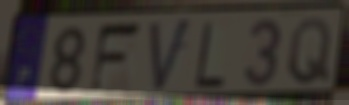3: (241, 16, 283, 91)
8: (46, 23, 90, 97)
F: (87, 19, 144, 97)
L: (192, 20, 227, 90)
Q: (285, 15, 334, 88)
V: (147, 16, 194, 97)
